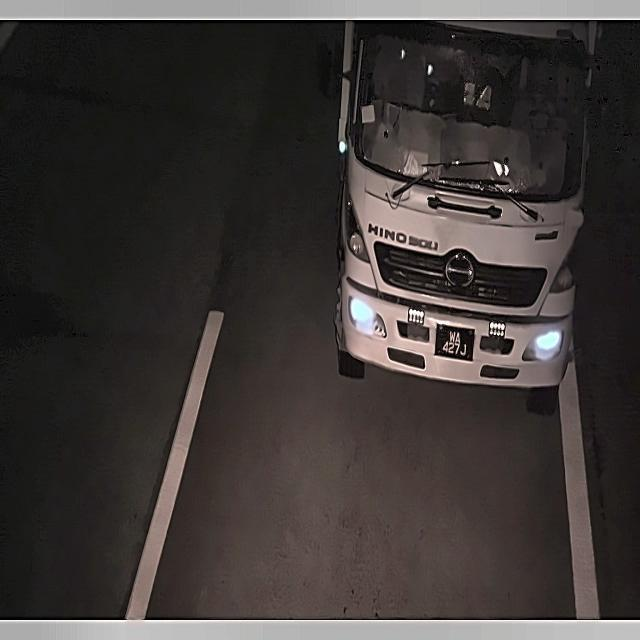car: (434, 320, 474, 368)
